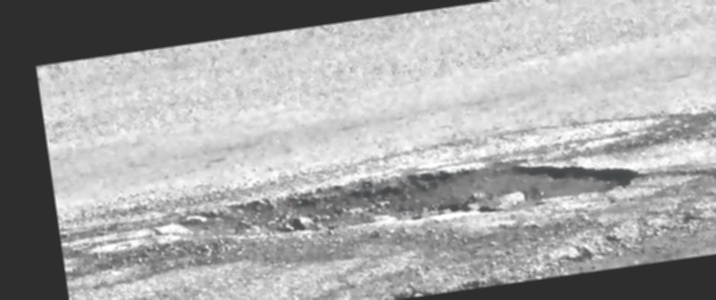pothole: (175, 131, 648, 258)
